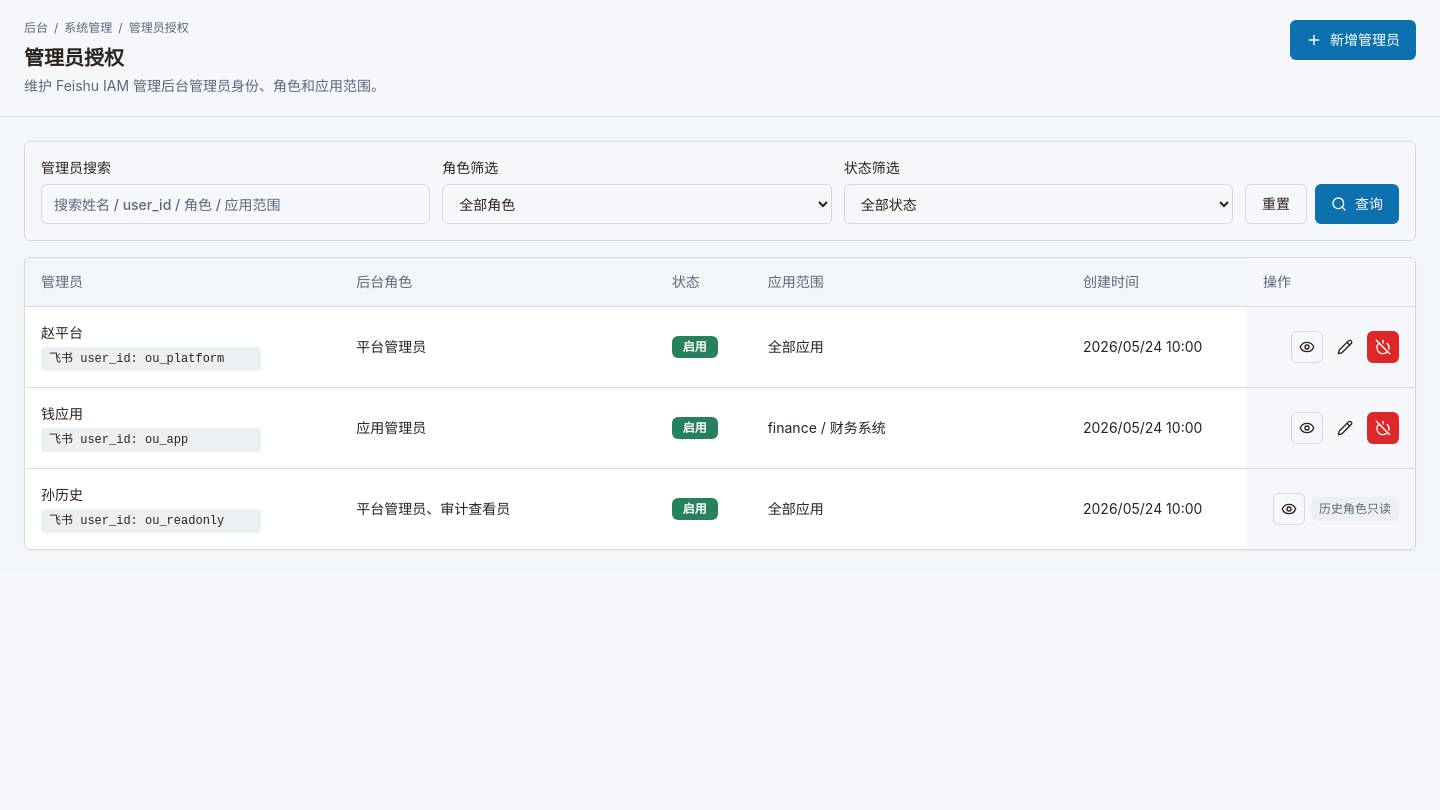
Test: AdminAuthorizationView › 新增平台管理员成功后回到列表并展示成功反馈
The width and height of the screenshot is (1440, 810).
Click the button "新增管理员". click: click(1353, 40)
box: left=1290, top=20, right=1416, bottom=60
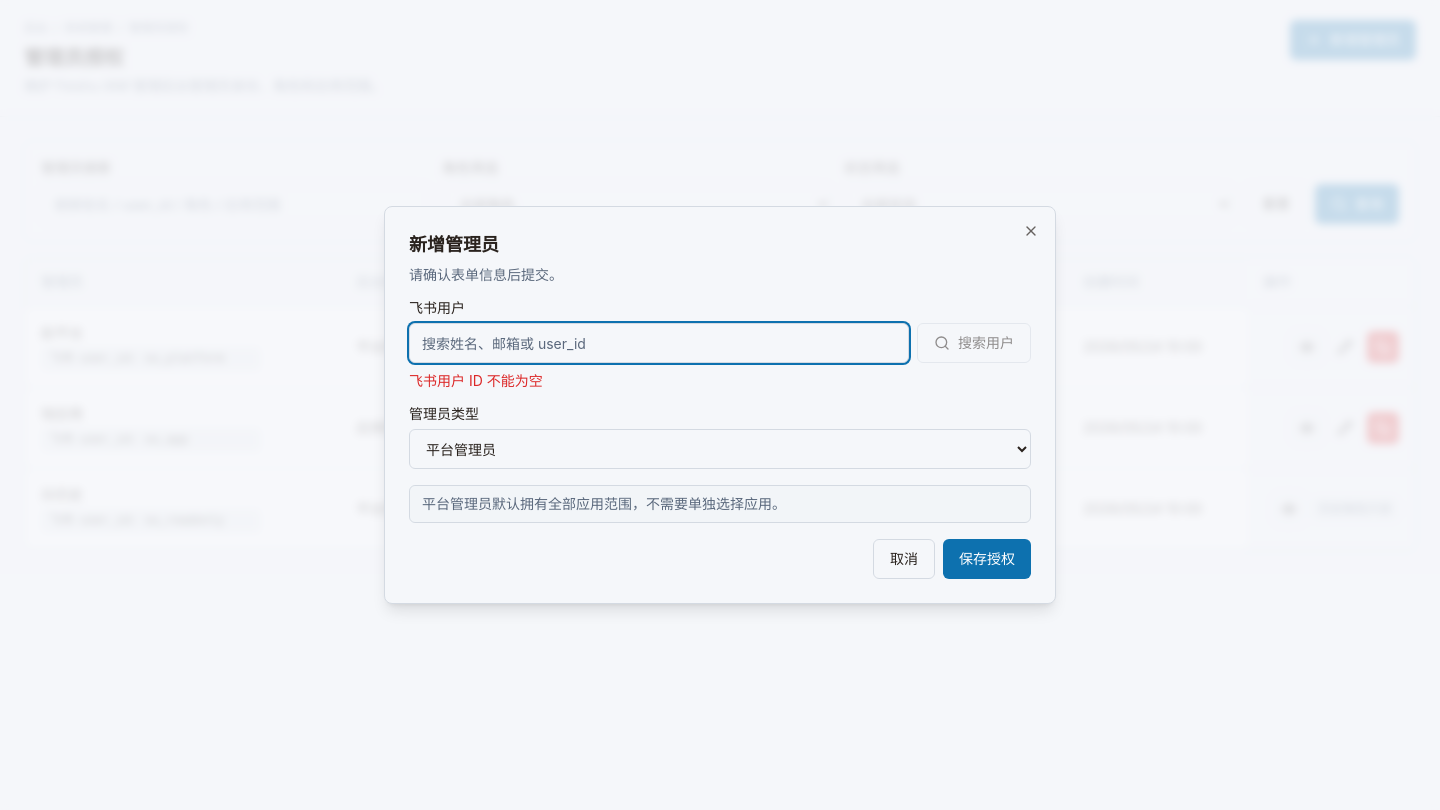
Type "ou_new" into the field labelled "飞书用户". click: (659, 343)
box: left=409, top=323, right=909, bottom=363
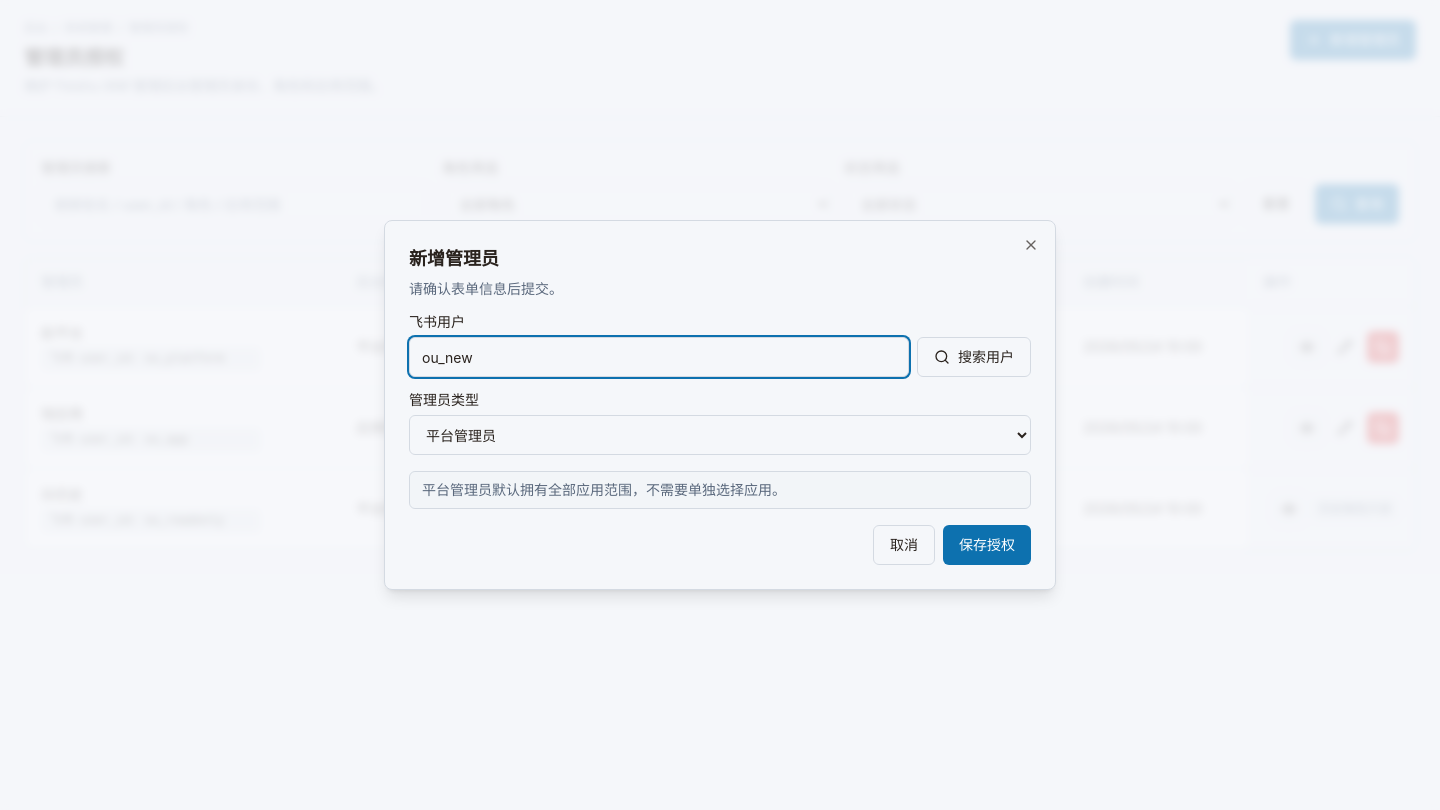
Click the button "保存授权". click: click(987, 545)
box: left=943, top=525, right=1031, bottom=565
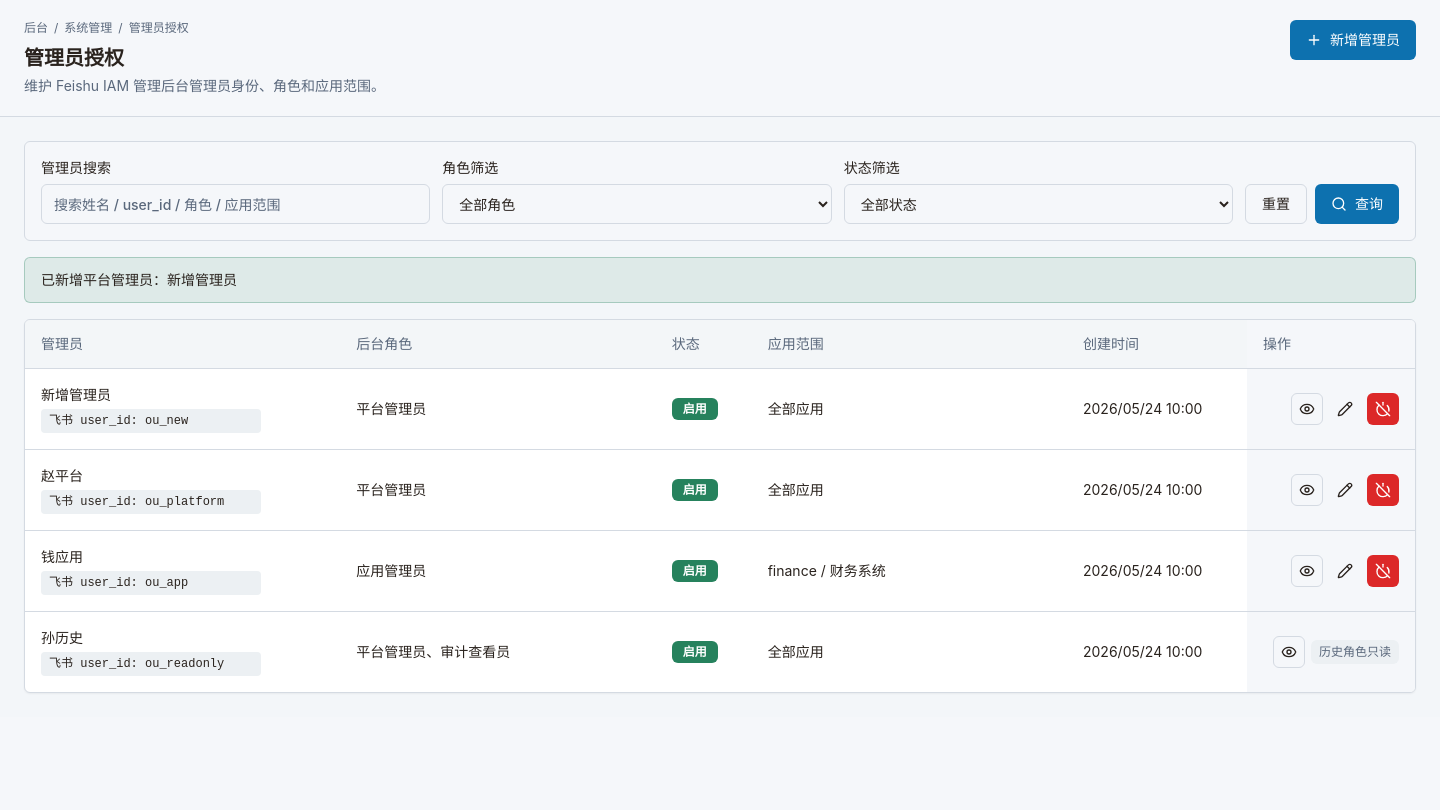
Result: the text "已新增平台管理员：新增管理员" is shown at left=24, top=257, right=1416, bottom=303
